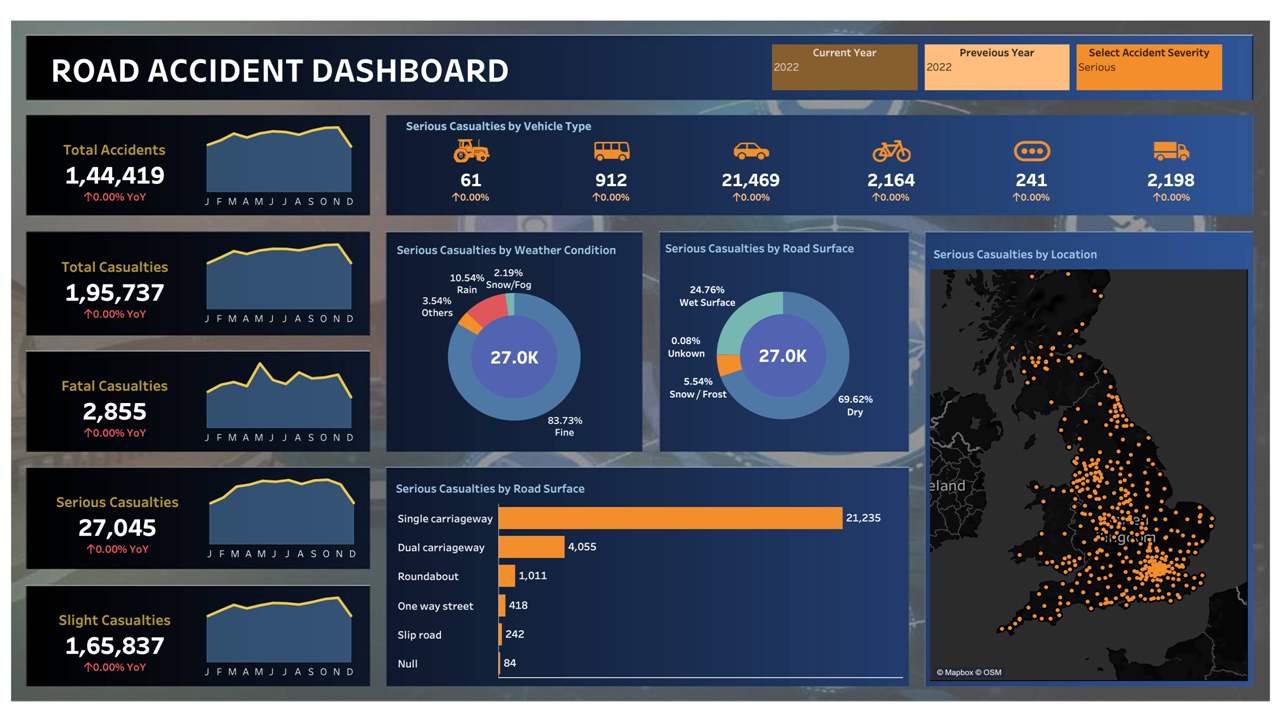

What the dashboard file says about the page in this screenshot:
{"tool":"tableau","page":{"name":"Dashboard 1","canvas":[1450,900],"ordinal":0},"visuals":[{"type":"image","param":"/Users/desilvas/Downloads/WhatsApp Image 2023-04-07 at 21.35.48.jpeg","box":[8,8,1434,884]},{"type":"text","box":[54,73,583,66]},{"type":"parameter","param":"[Parameters].[Parameter 1]","box":[870,73,172.7,62]},{"type":"parameter","param":"[Parameters].[Current Year (copy)_2066096710722535425]","box":[1042.7,73,172.7,62]},{"type":"parameter","param":"[Parameters].[Parameter 2]","box":[1215.3,73,172.7,62]},{"type":"text","box":[457,158,356,30]},{"type":"worksheet","title":"Total Accidents","mark":"Automatic","box":[37,165,186,110]},{"type":"worksheet","title":"Accident Sparkline","mark":"Automatic","rows":["CY Accidents (copy)_2066096710723874819","Calculation_2066096710722801666"],"cols":["Accident Date"],"box":[223,165,185,110]},{"type":"worksheet","title":"Vechicle Type Images","mark":"Shape","box":[450,184,960,32]},{"type":"worksheet","title":"Vechicle Type KPI","mark":"Automatic","box":[450,216,960,61]},{"type":"worksheet","title":"Road Surface","mark":"Pie","rows":["Calculation_2066096710797000725","Calculation_2066096710797021207"],"box":[749,302,275,250]},{"type":"worksheet","title":"Total Casualties","mark":"Automatic","box":[37,303,186,110]},{"type":"worksheet","title":"Total Casualties Sparkline ","mark":"Automatic","rows":["CY Casualties (copy)_2066096710728900614","Calculation_2066096710728097797"],"cols":["Accident Date"],"box":[223,303,185,110]},{"type":"worksheet","title":"Weather Condition","mark":"Pie","rows":["Calculation_2066096710797000725","Calculation_2066096710797021207"],"box":[445,304,274,249]},{"type":"worksheet","title":"By Location","mark":"Automatic","rows":["Latitude"],"cols":["Longitude"],"box":[1053,309,359,517]},{"type":"worksheet","title":"Fatal Casualties ","mark":"Automatic","box":[37,443,186,110]},{"type":"worksheet","title":"Fatal Casualties Sparkline ","mark":"Automatic","rows":["CY Fatal Casualties (copy)_2066096710732886025","Calculation_2066096710731276296"],"cols":["Accident Date"],"box":[223,443,185,110]},{"type":"worksheet","title":"Serious Casualties ","mark":"Automatic","box":[40,580,186,110]},{"type":"worksheet","title":"Serious Casualties Sparkline","mark":"Automatic","rows":["PY Fatal Casualties  (copy)_2066096710735278093","CY Fatal Casualties (copy)_2066096710734401547"],"cols":["Accident Date"],"box":[226,580,185,110]},{"type":"worksheet","title":"Road Type","mark":"Automatic","rows":["Road_Type"],"cols":["Calculation_2066096710728097797"],"box":[444,585,578,238]},{"type":"worksheet","title":"Slight Casualties ","mark":"Automatic","box":[37,719,186,110]},{"type":"worksheet","title":"Slight Casualties Sparkline ","mark":"Automatic","rows":["PY Serious Casualties   (copy)_2066096710736900112","CY Serious  Casualties  (copy)_2066096710736752655"],"cols":["Accident Date"],"box":[223,719,185,110]}]}

Visuals, with their boxes on the page's 1450x900 design canvas (x1, y1, x2, y2). These are canvas units, not pixel positions in the 1280x720 screenshot, which may show the page scaled, cropped or inside an application window:
image: (8, 8, 1442, 892)
text: (54, 73, 637, 139)
parameter: (870, 73, 1043, 135)
parameter: (1043, 73, 1215, 135)
parameter: (1215, 73, 1388, 135)
text: (457, 158, 813, 188)
"Total Accidents" worksheet: (37, 165, 223, 275)
"Accident Sparkline" worksheet: (223, 165, 408, 275)
"Vechicle Type Images" worksheet (Shape marks): (450, 184, 1410, 216)
"Vechicle Type KPI" worksheet: (450, 216, 1410, 277)
"Road Surface" worksheet (Pie marks): (749, 302, 1024, 552)
"Total Casualties" worksheet: (37, 303, 223, 413)
"Total Casualties Sparkline " worksheet: (223, 303, 408, 413)
"Weather Condition" worksheet (Pie marks): (445, 304, 719, 553)
"By Location" worksheet: (1053, 309, 1412, 826)
"Fatal Casualties " worksheet: (37, 443, 223, 553)
"Fatal Casualties Sparkline " worksheet: (223, 443, 408, 553)
"Serious Casualties " worksheet: (40, 580, 226, 690)
"Serious Casualties Sparkline" worksheet: (226, 580, 411, 690)
"Road Type" worksheet: (444, 585, 1022, 823)
"Slight Casualties " worksheet: (37, 719, 223, 829)
"Slight Casualties Sparkline " worksheet: (223, 719, 408, 829)
